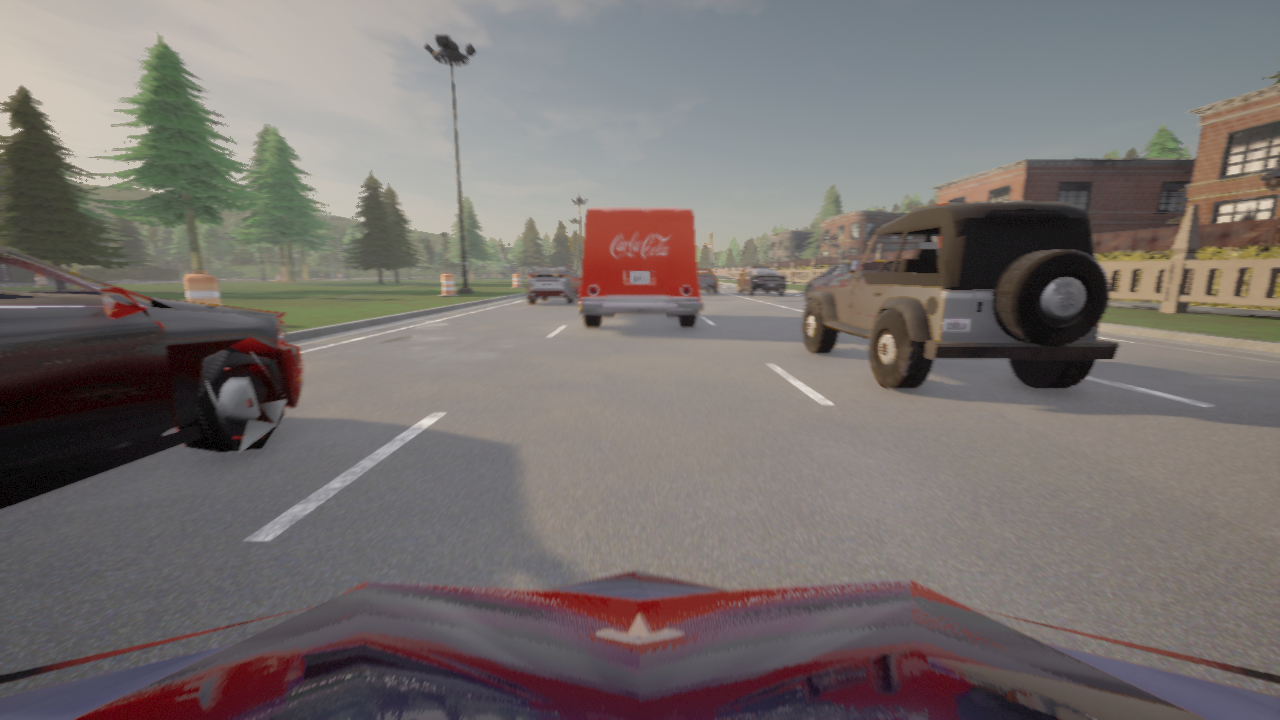cyclist: (0, 569, 1279, 719), (802, 201, 1118, 388), (578, 208, 702, 327), (805, 260, 860, 303), (527, 265, 581, 303), (738, 266, 785, 294), (697, 268, 717, 294)
